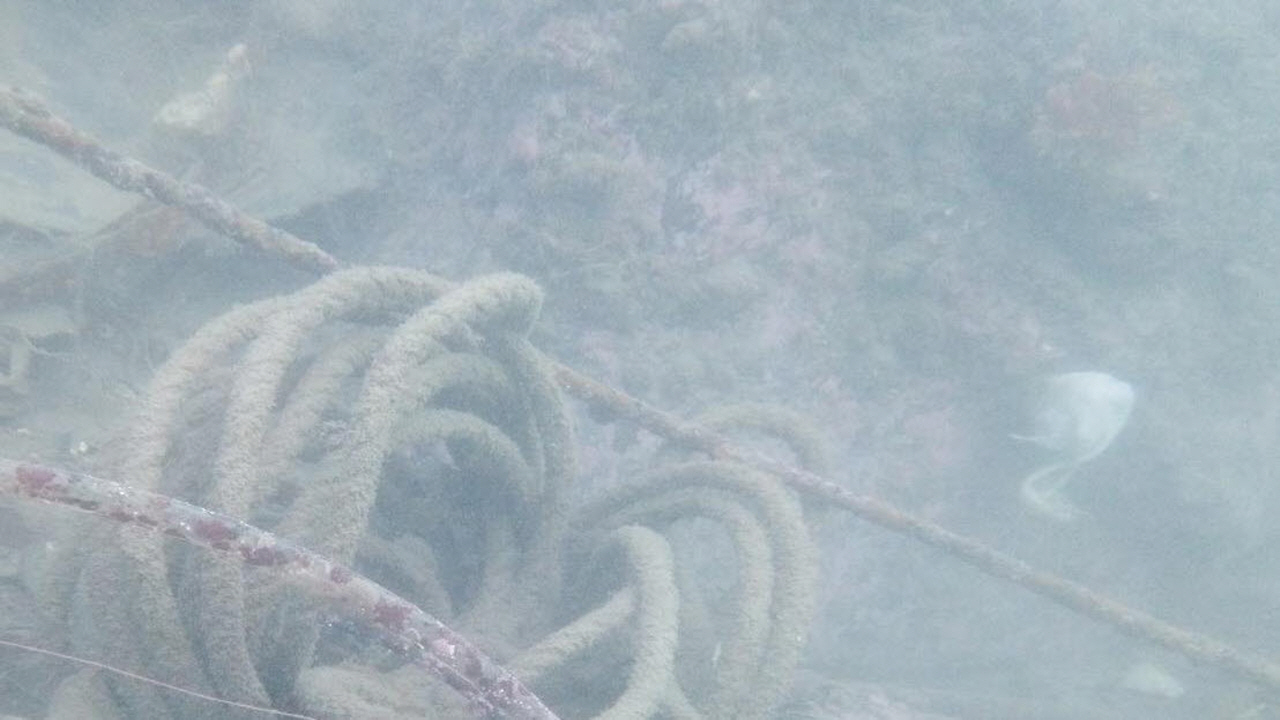bundle of ropes: (0, 256, 854, 720)
rope: (0, 75, 1280, 689)
